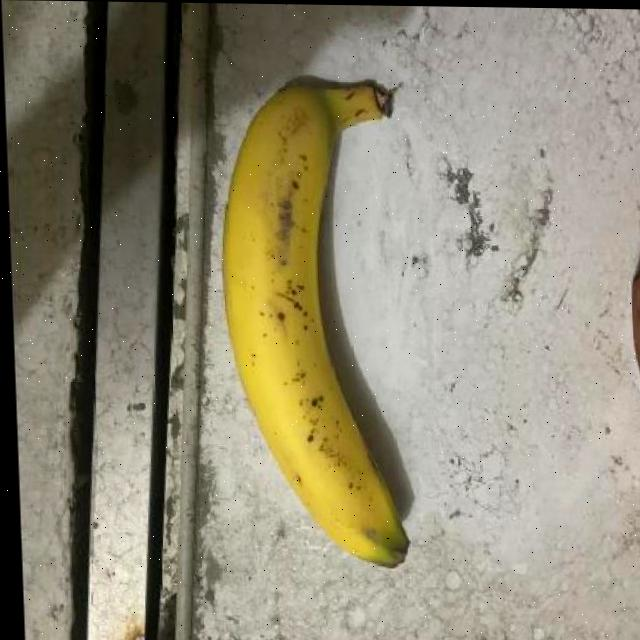banana: (214, 71, 422, 576)
